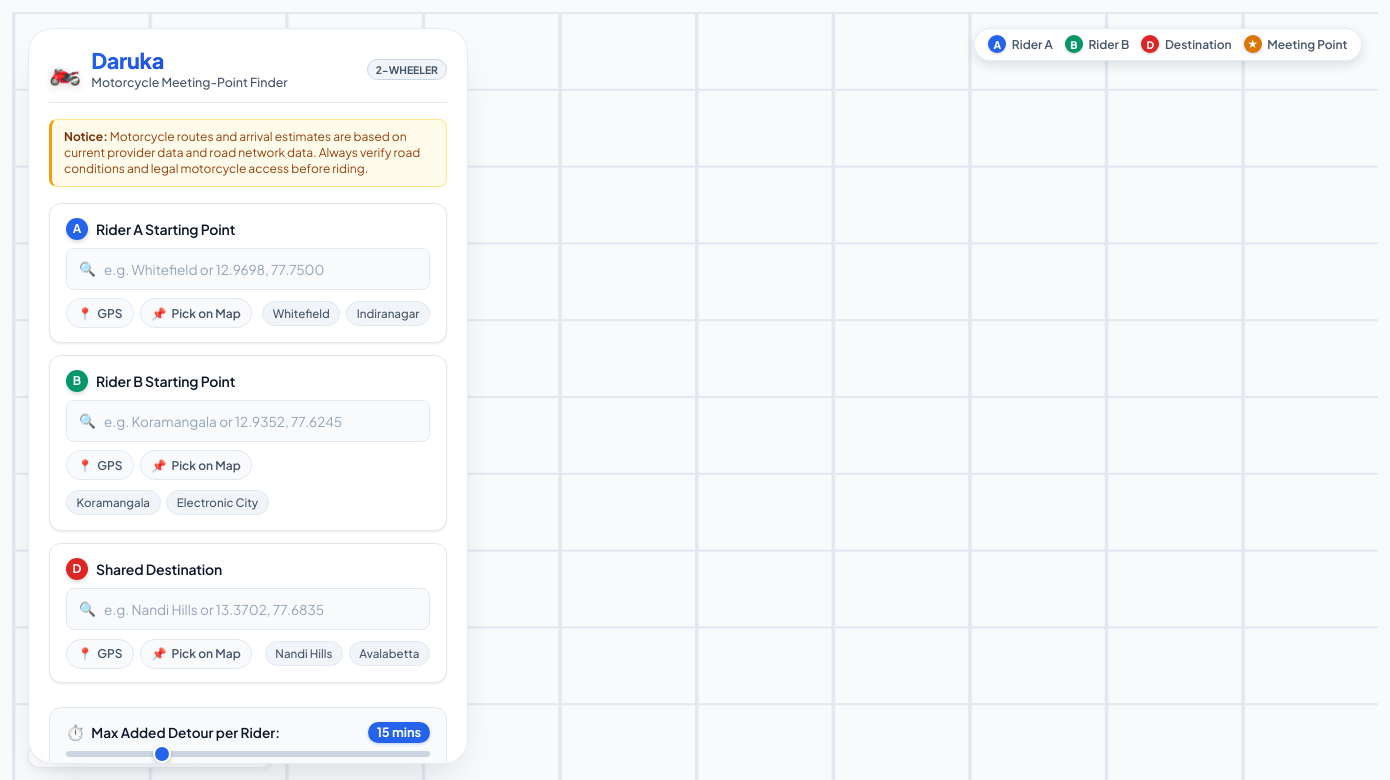
Test: App › allows user to confirm locations using presets and submit search
Note: Click presets
Step 1. Click the button "Whitefield" → (301, 313), box [262,301,340,326]
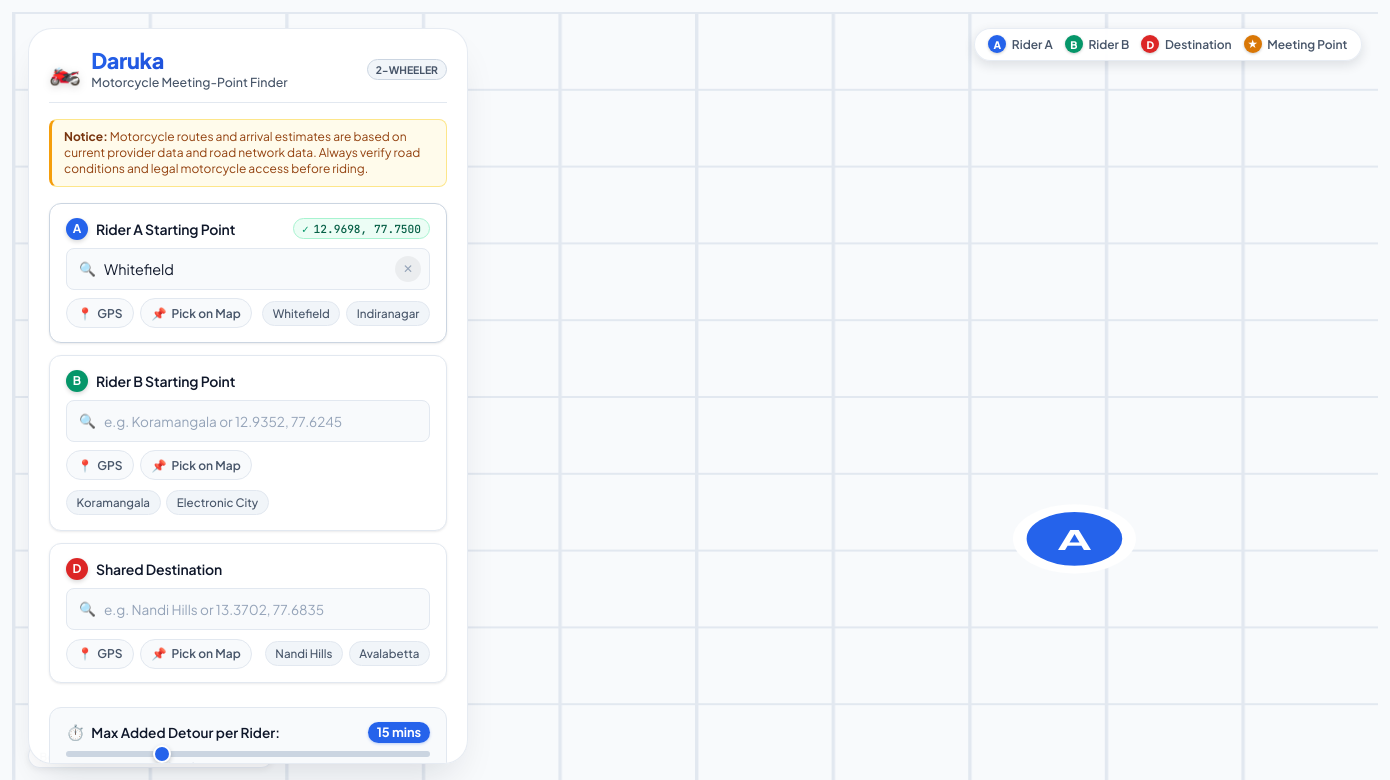
Step 2. Click the button "Koramangala" → (113, 502), box [66,490,161,515]
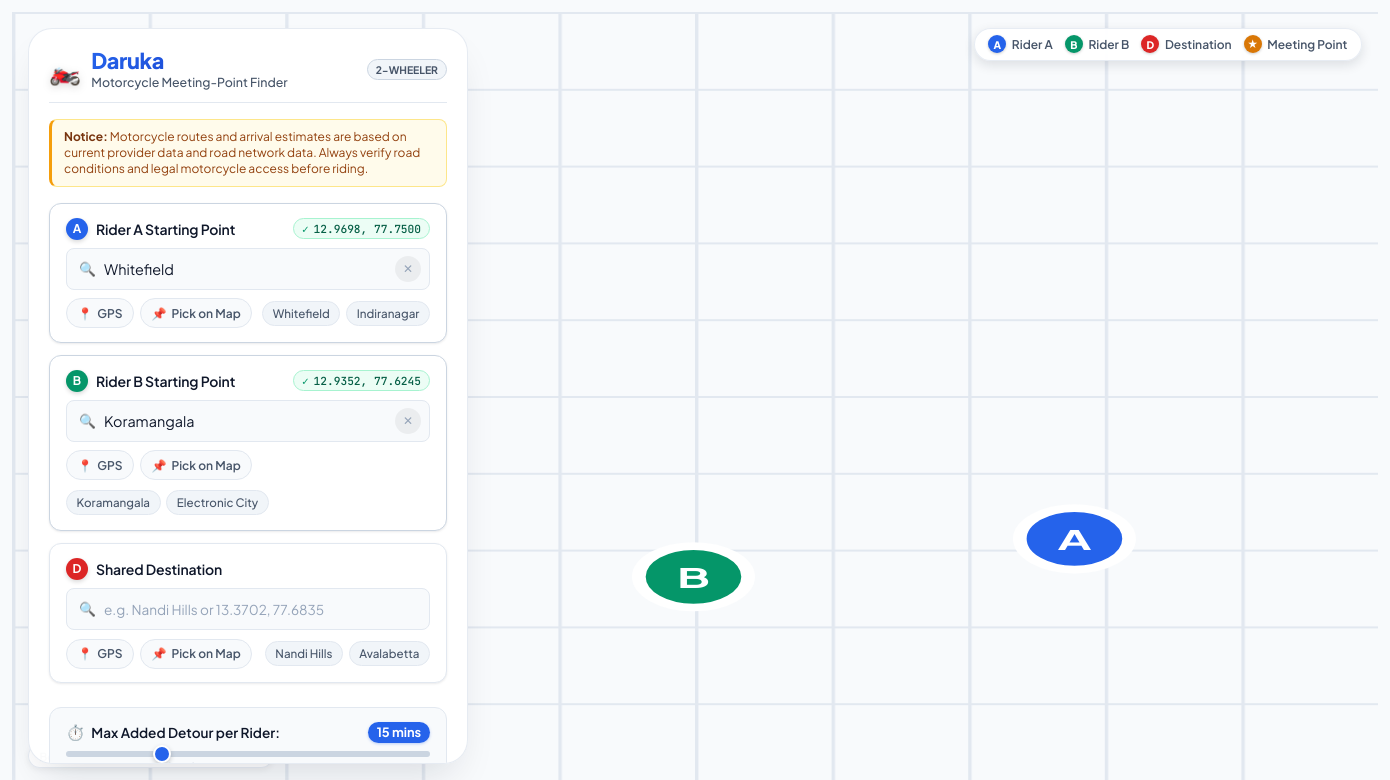
Step 3. Click the button "Nandi Hills" → (304, 654), box [265,641,343,666]
(page scrolled)
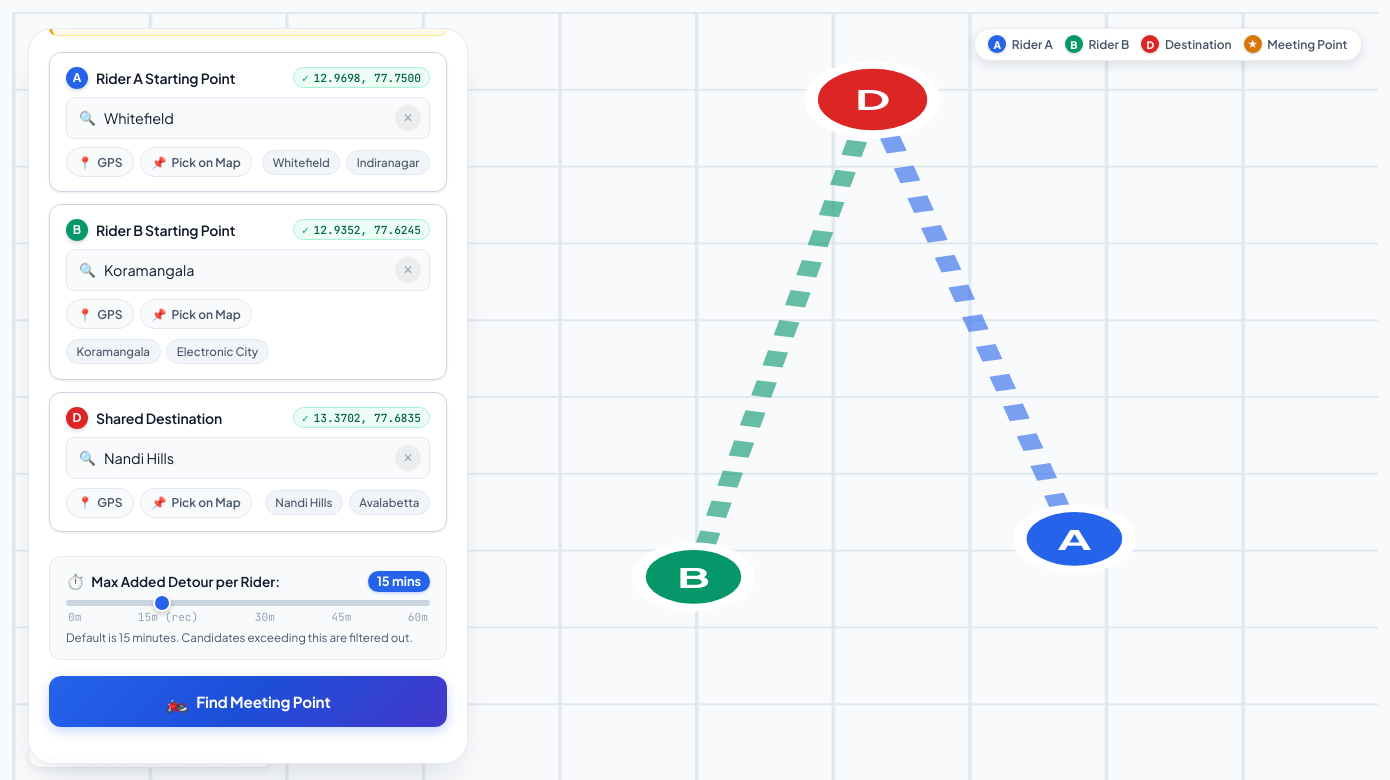
Result: the button "🏍️ Find Meeting Point" is enabled
Step 4. Click the button "🏍️ Find Meeting Point" → (248, 702), box [49,676,447,727]
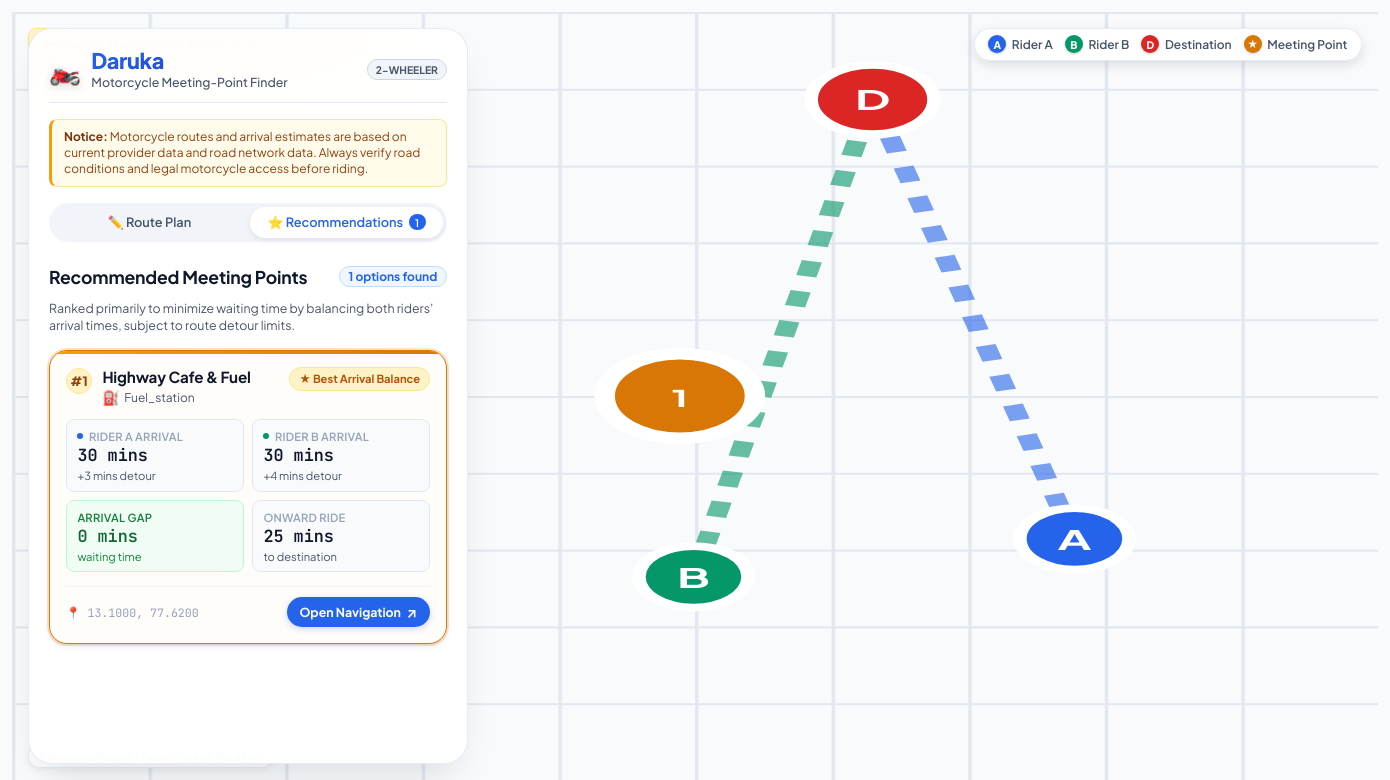
Result: the heading "Recommended Meeting Points" is shown at [49,266,307,288]
Result: the heading "Highway Cafe & Fuel" is shown at [102,367,251,386]
